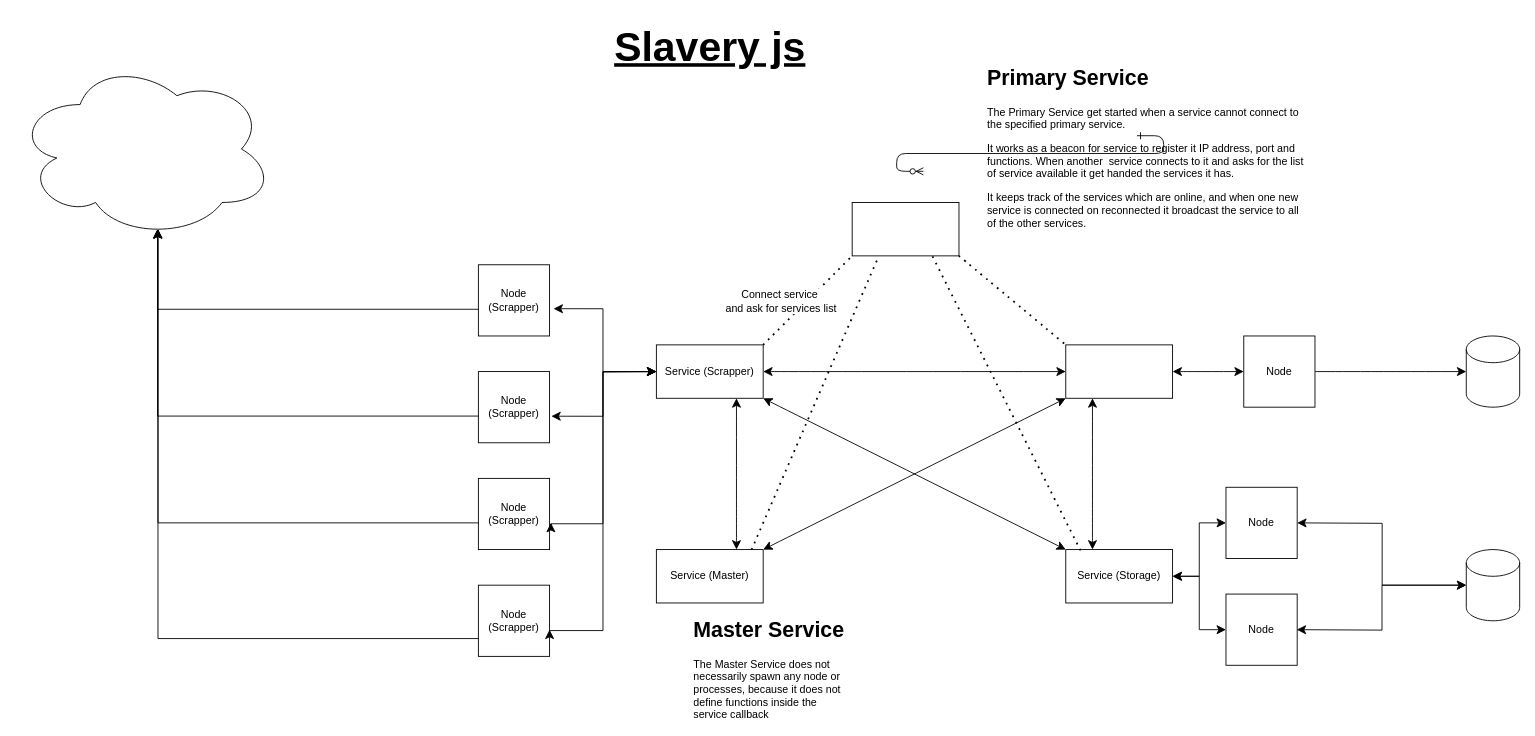
The diagram is 1535 pixels wide and 736 high, and some of its shapes have lost their labels. Each missing label, with the centre of its shape:
Internet: (144,148)
Logs: (1492,371)
Primary Service: (905,229)
Service (Log): (1119,371)
Storage: (1492,585)
